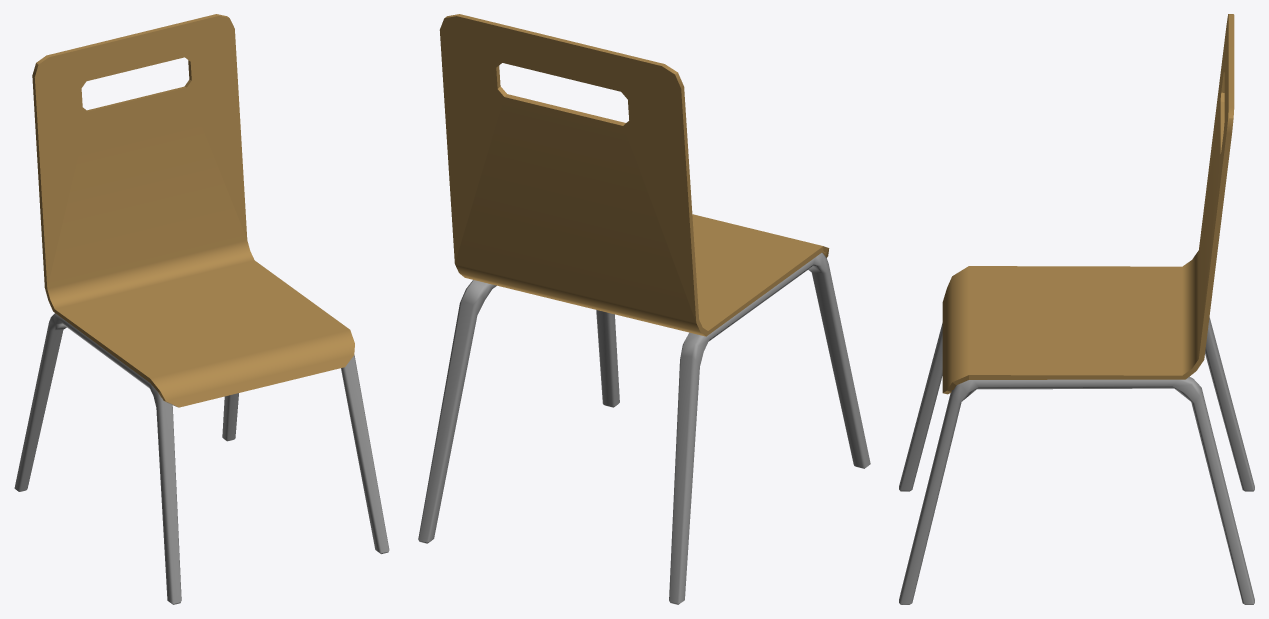
File: Chair.fbx
The picture shows the model from 3 angles, left to right: view 1: azimuth 30°, elevation 25°; view 2: azimuth 150°, elevation 25°; view 3: azimuth 270°, elevation 25°; orthographic projection. The views are drawn at different scales.
Parts seen in each view (by area): view 1: Chair; view 2: Chair; view 3: Chair.
Boxes of the visible parts, x1,y1,x2,y2 form: Chair: [14, 14, 389, 604]; Chair: [418, 14, 870, 604]; Chair: [899, 14, 1254, 604].
Size of the model in its own units: 60.88 by 116 by 76.98.
